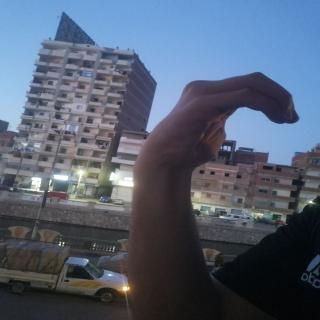HAA: (131, 68, 309, 180)
